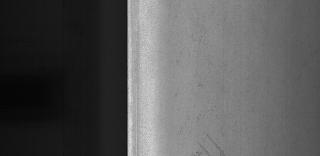silk spot: (186, 20, 260, 120)
water spot: (193, 128, 230, 156)
